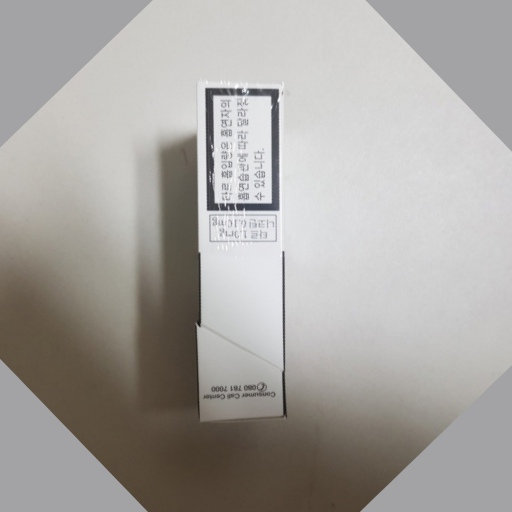Paper_0: (172, 78, 301, 430)
